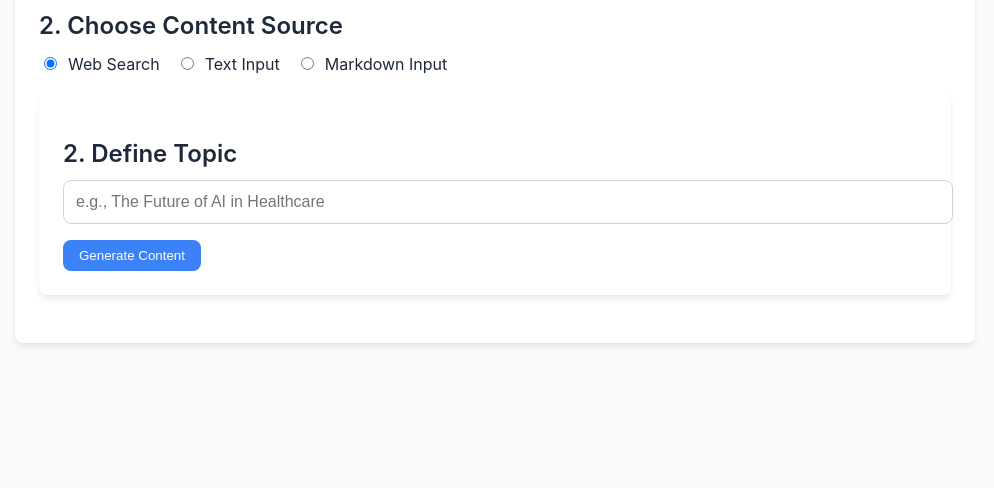
Test: ContentInput › Source Selection › switches to markdown source when selected
What coordinates should you click on to do the following:
click the radio button labelled "Markdown Input"
I would click on:
 (307, 63)
Its box is [301,57,314,70].
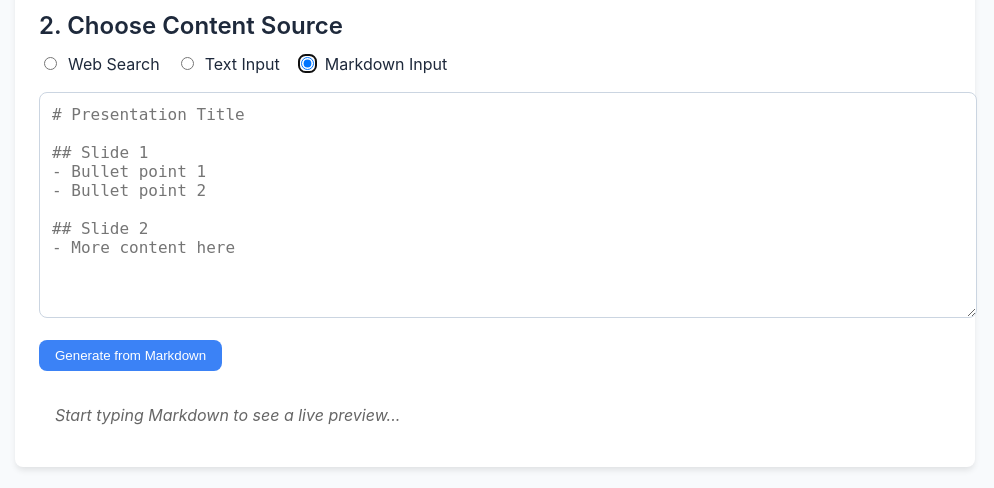
Expected: the radio button labelled "Markdown Input" is checked, [301,57,314,70]
Expected: the text box with placeholder "# Presentation Title" is shown, [39,92,977,318]
